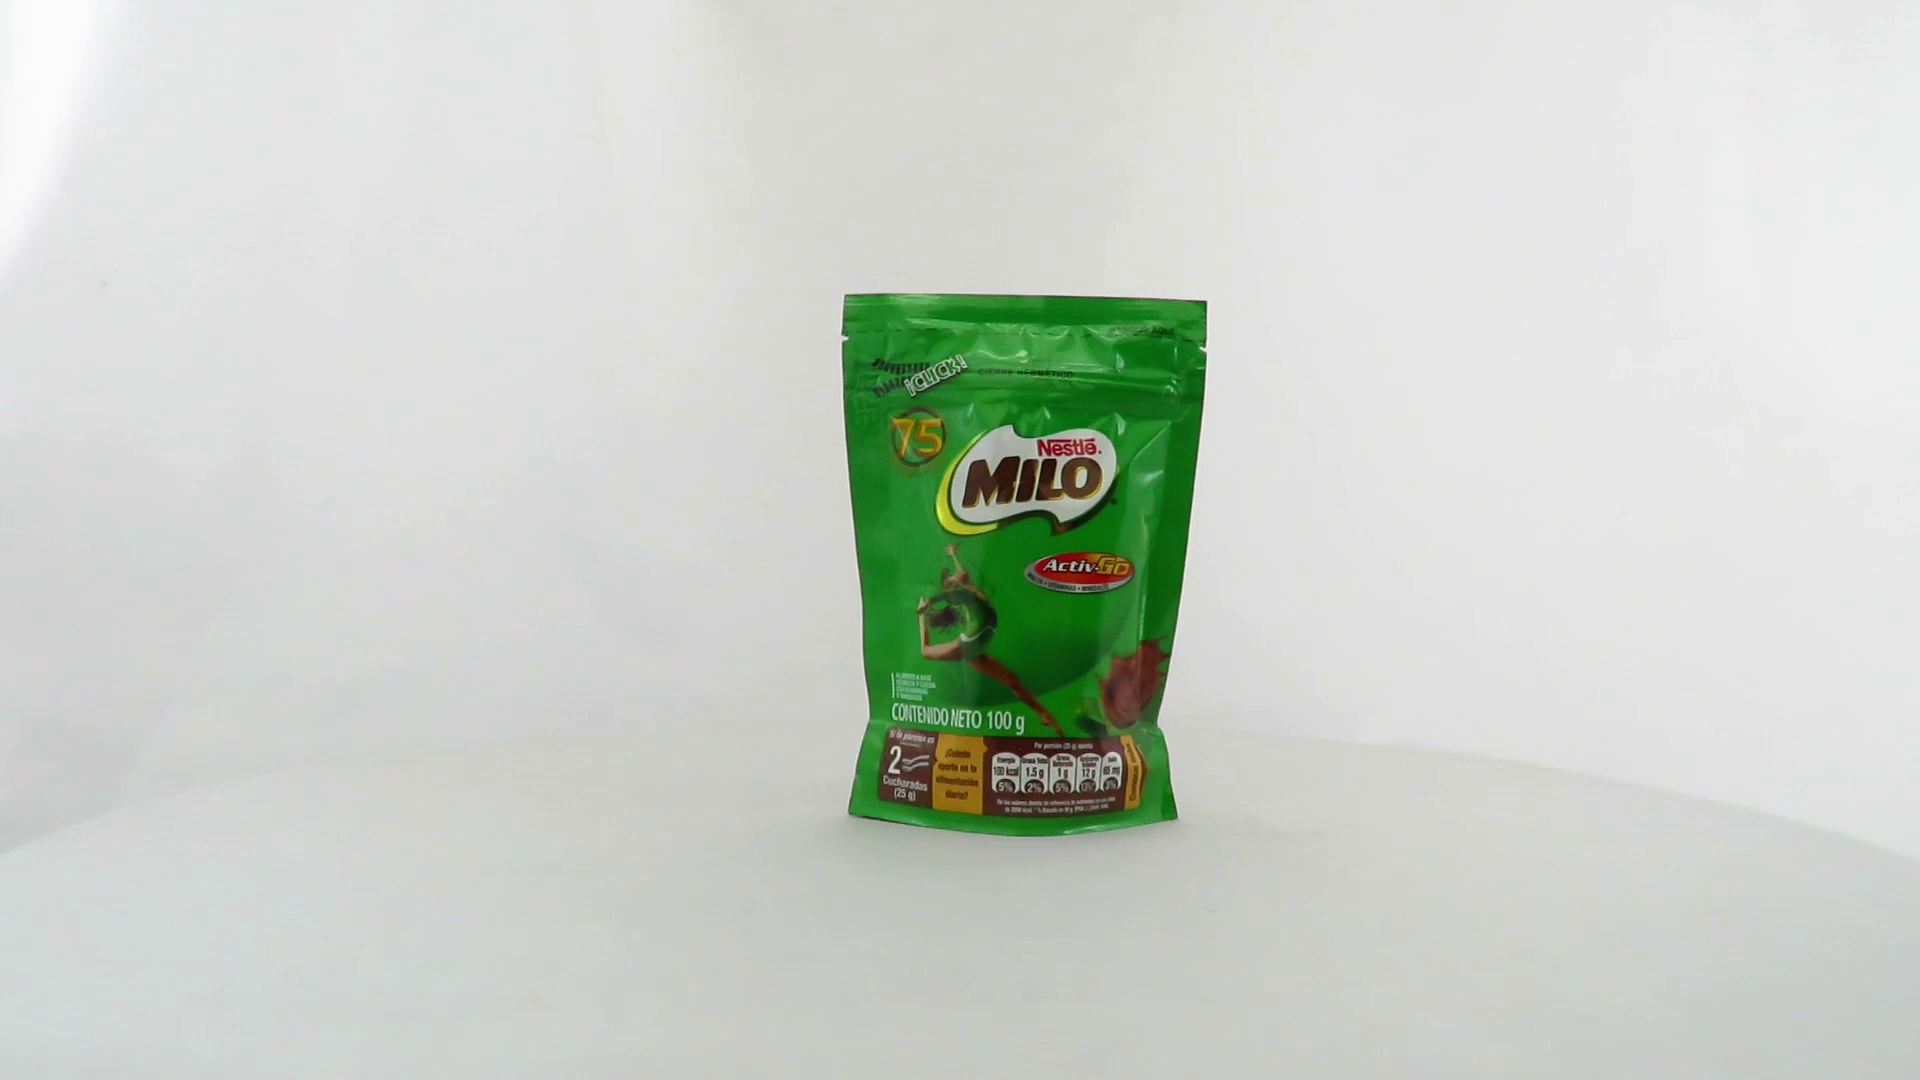COL0170203DYP10000: (836, 287, 1215, 843)
